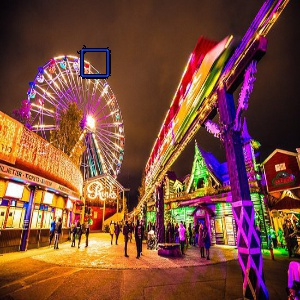square: (79, 46, 110, 79)
